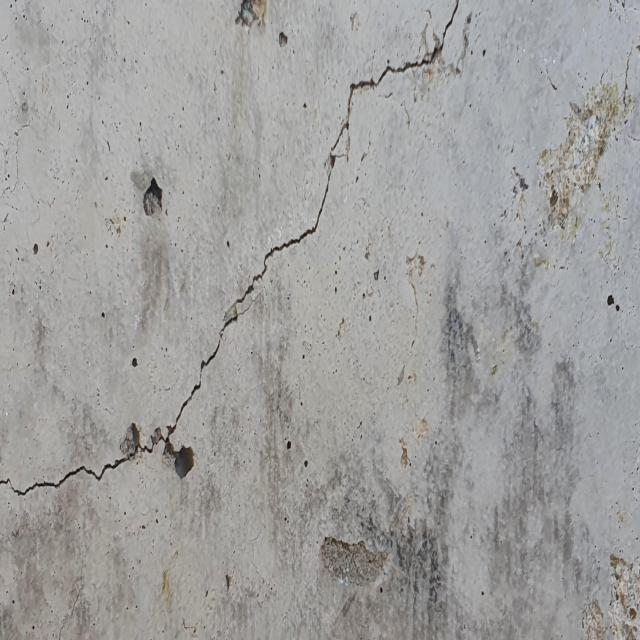SurfaceCrack: (1, 0, 580, 546)
